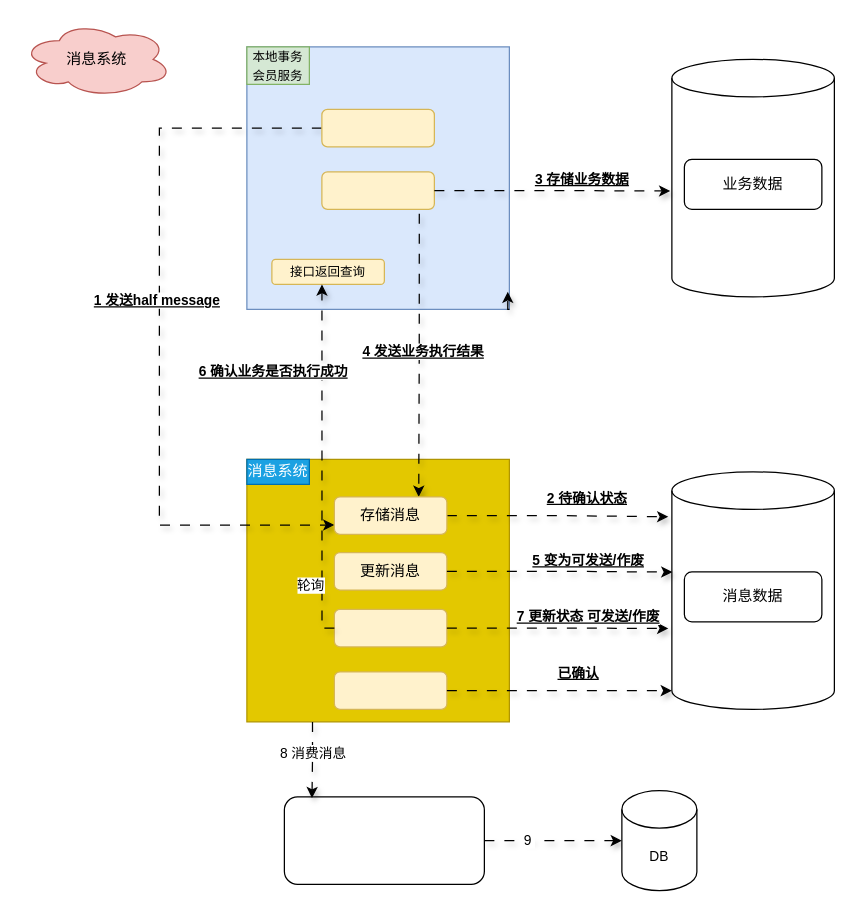
The diagram is 856 pixels wide and 913 high, and some of its shapes have lost their labels. Each missing label, with the centre of its shape:
回查消息: the point at 390,627
执行业务逻辑用户注册: the point at 377,190
消费者下游服务赠送积分（优惠券） 幂等: the point at 383,840
确认消息: the point at 390,690
预发送消息: the point at 377,127
